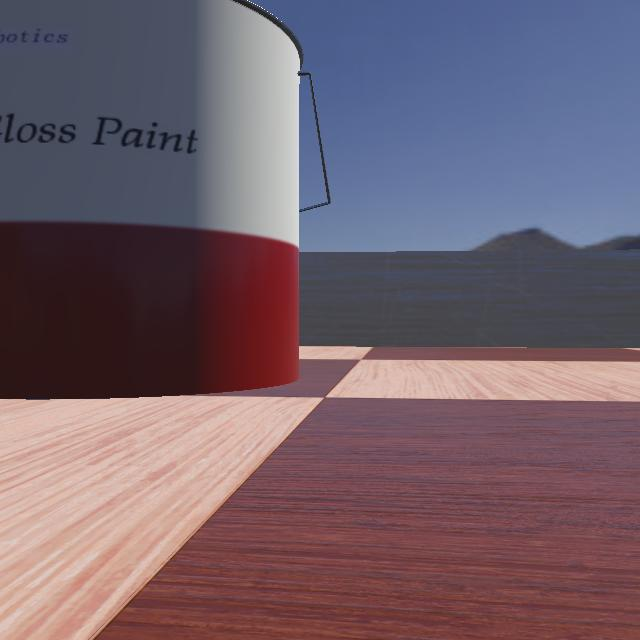paint-bucket: (0, 1, 338, 403)
